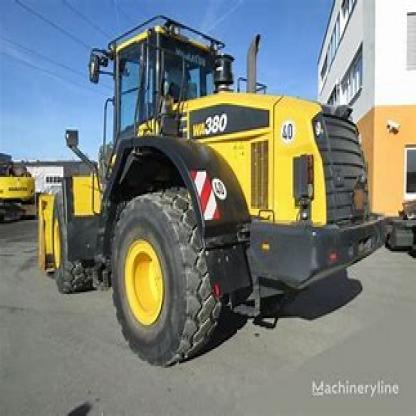bull_dozer/loader/grader: (31, 16, 391, 370)
